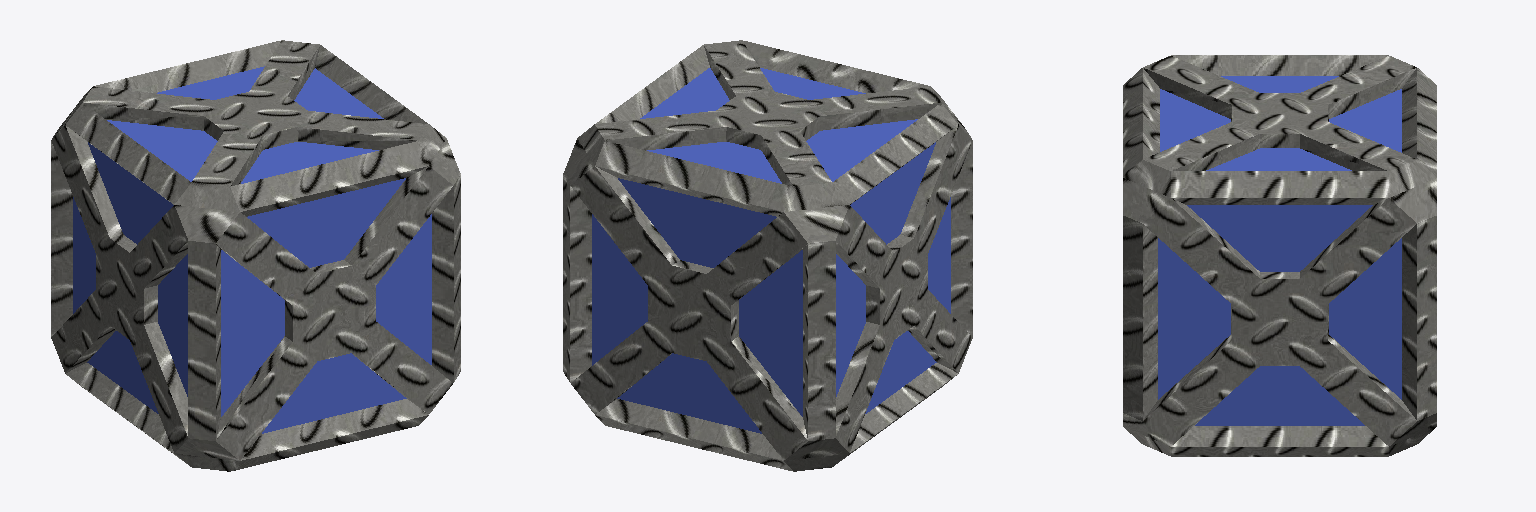
3 renders of one model, left to right at view 1: azimuth 30°, elevation 25°; view 2: azimuth 150°, elevation 25°; view 3: azimuth 270°, elevation 25°, orthographic.
Parts seen in each view (by area): view 1: body, glass; view 2: body, glass; view 3: body, glass.
Boxes of the visible parts, x1=… form: body: x1=51, y1=40, x2=460, y2=471; glass: x1=73, y1=66, x2=431, y2=433; body: x1=563, y1=40, x2=972, y2=471; glass: x1=592, y1=68, x2=950, y2=433; body: x1=1123, y1=55, x2=1436, y2=456; glass: x1=1158, y1=76, x2=1401, y2=425.
Size of the model in its own units: 0.8164 by 0.8163 by 0.8164.
2 materials, 1 textured.